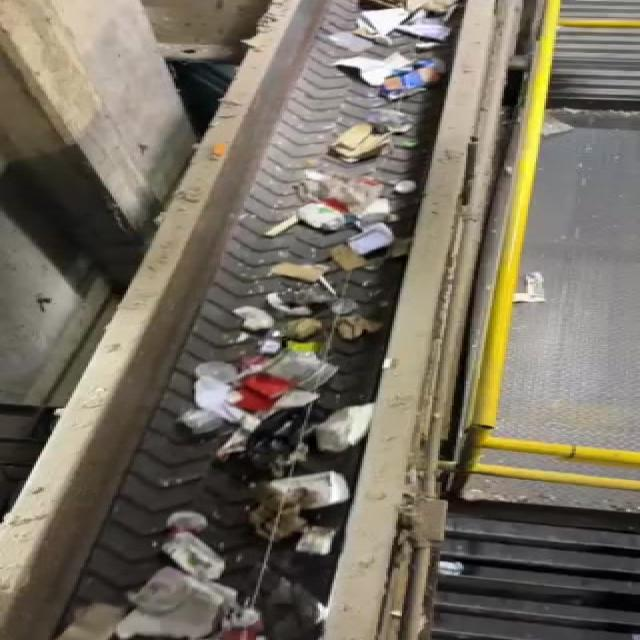ps: (262, 465, 364, 515)
